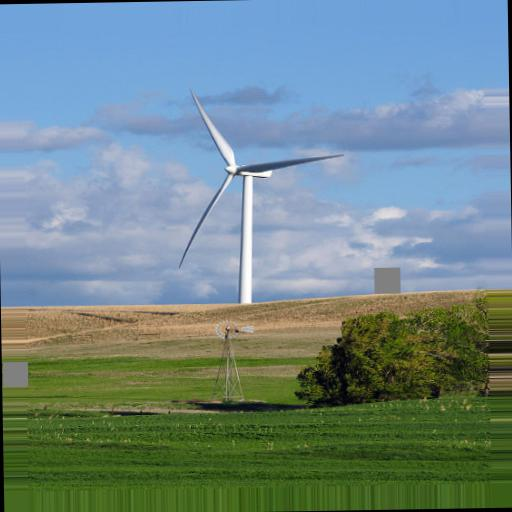wind turbine: (177, 86, 347, 302)
